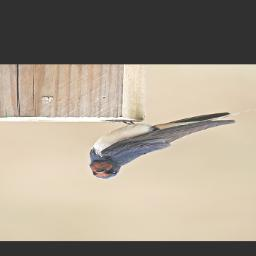Swallow: (87, 102, 256, 181)
